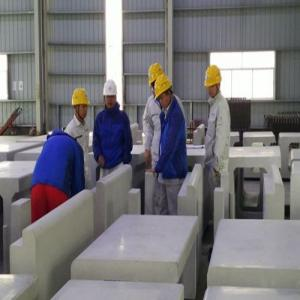white: (103, 80, 119, 111)
yellow: (72, 88, 91, 122), (155, 75, 173, 109), (204, 64, 222, 98)
